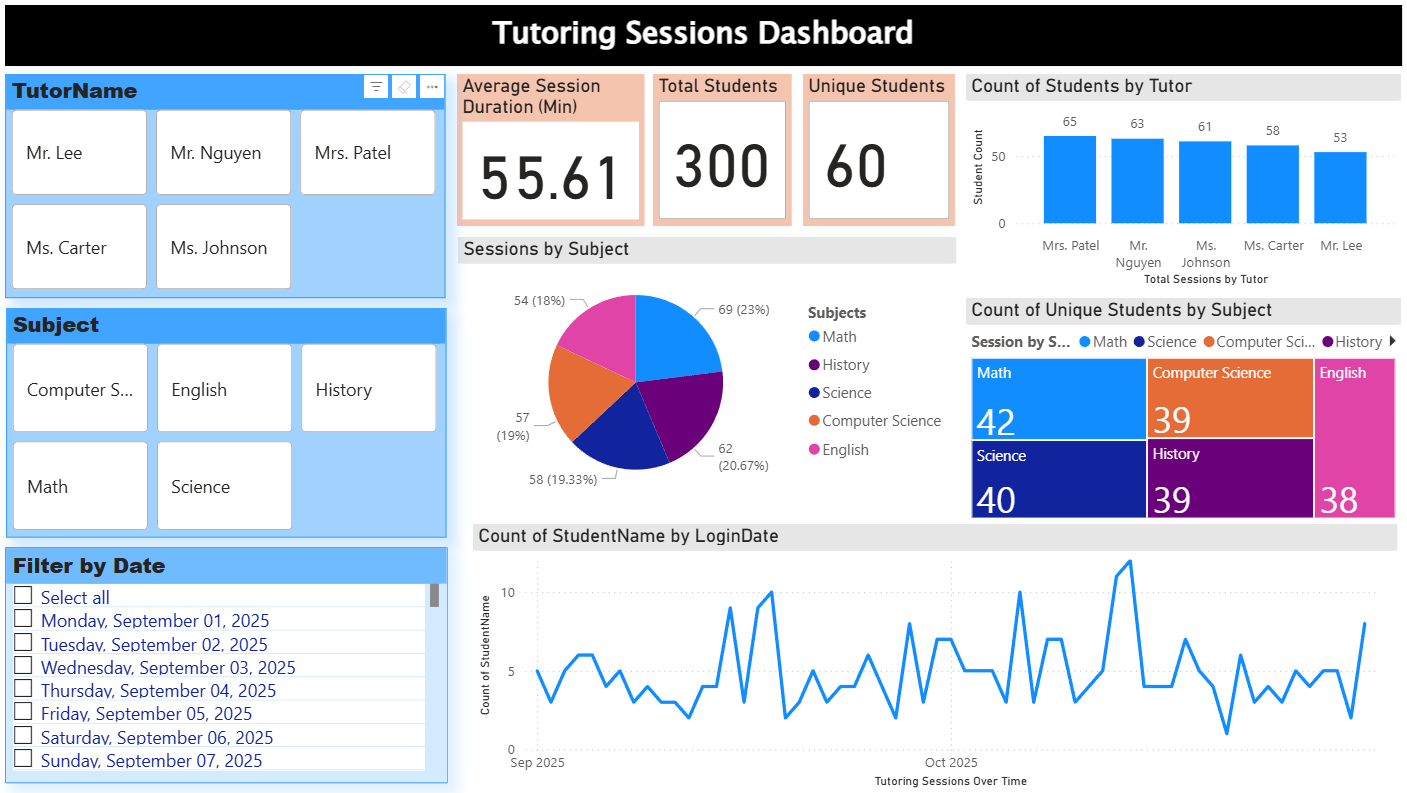

The page's visual inventory and layout, read from the dashboard file:
{"tool":"powerbi","page":{"name":"Page 1","canvas":[1280,720],"ordinal":0},"visuals":[{"type":"lineChart","fields":{"Category":["tutoring_login_data_300.LoginDate"],"Y":["CountNonNull(tutoring_login_data_300.StudentName)"]},"box":[428.9,476.6,832.6,243.2],"z":0},{"type":"clusteredColumnChart","title":"Count of Students by Tutor","fields":{"Category":["tutoring_login_data_300.TutorName"],"Y":["CountNonNull(tutoring_login_data_300.StudentName)"]},"box":[873.4,71,392,195.5],"z":1000},{"type":"pieChart","title":"Sessions by Subject","fields":{"Category":["tutoring_login_data_300.Subject"],"Y":["CountNonNull(tutoring_login_data_300.StudentName)"]},"box":[415.3,217.9,449.4,243.2],"z":2000},{"type":"treemap","title":"Count of Unique Students by Subject","fields":{"Group":["tutoring_login_data_300.Subject"],"Values":["Count(tutoring_login_data_300.StudentName)"]},"box":[873.4,273.3,392,203.3],"z":3000},{"type":"cardVisual","title":"Average Session Duration (Min)","fields":{"Data":["Avg(tutoring_login_data_300.SessionDuration(min))"]},"box":[414.3,71,169.2,137.1],"z":4000},{"type":"advancedSlicerVisual","fields":{"Values":["tutoring_login_data_300.TutorName"]},"box":[6.8,71,396.8,202.3],"z":5000},{"type":"listSlicer","title":"Filter by Date","fields":{"Values":["tutoring_login_data_300.LoginDate"]},"box":[6.8,497,398.8,213],"z":6000},{"type":"advancedSlicerVisual","fields":{"Values":["tutoring_login_data_300.Subject"]},"box":[7.8,282.1,396.8,207.2],"z":7000},{"type":"textbox","box":[6.8,8.8,1258.6,55.4],"z":8000},{"type":"cardVisual","title":"Total Students","fields":{"Data":["CountNonNull(tutoring_login_data_300.StudentName)"]},"box":[591.4,71,125.5,137.1],"z":9000},{"type":"cardVisual","title":"Unique Students","fields":{"Data":["Count(tutoring_login_data_300.StudentName)"]},"box":[726.6,71,137.1,137.1],"z":10000}]}

Visuals, with their boxes in screenshot pixels (x1, y1, x2, y2), scaled from the page's 1280x720 canvas onto the 1407x793 screenshot:
lineChart - tutoring_login_data_300.LoginDate x CountNonNull(tutoring_login_data_300.StudentName): {"x1": 471, "y1": 525, "x2": 1387, "y2": 792}
"Count of Students by Tutor" clusteredColumnChart: {"x1": 960, "y1": 78, "x2": 1391, "y2": 294}
"Sessions by Subject" pieChart: {"x1": 457, "y1": 240, "x2": 950, "y2": 508}
"Count of Unique Students by Subject" treemap: {"x1": 960, "y1": 301, "x2": 1391, "y2": 525}
"Average Session Duration (Min)" cardVisual: {"x1": 455, "y1": 78, "x2": 641, "y2": 229}
advancedSlicerVisual - tutoring_login_data_300.TutorName: {"x1": 7, "y1": 78, "x2": 444, "y2": 301}
"Filter by Date" listSlicer: {"x1": 7, "y1": 547, "x2": 446, "y2": 782}
advancedSlicerVisual - tutoring_login_data_300.Subject: {"x1": 9, "y1": 311, "x2": 445, "y2": 539}
textbox: {"x1": 7, "y1": 10, "x2": 1391, "y2": 71}
"Total Students" cardVisual: {"x1": 650, "y1": 78, "x2": 788, "y2": 229}
"Unique Students" cardVisual: {"x1": 799, "y1": 78, "x2": 949, "y2": 229}
